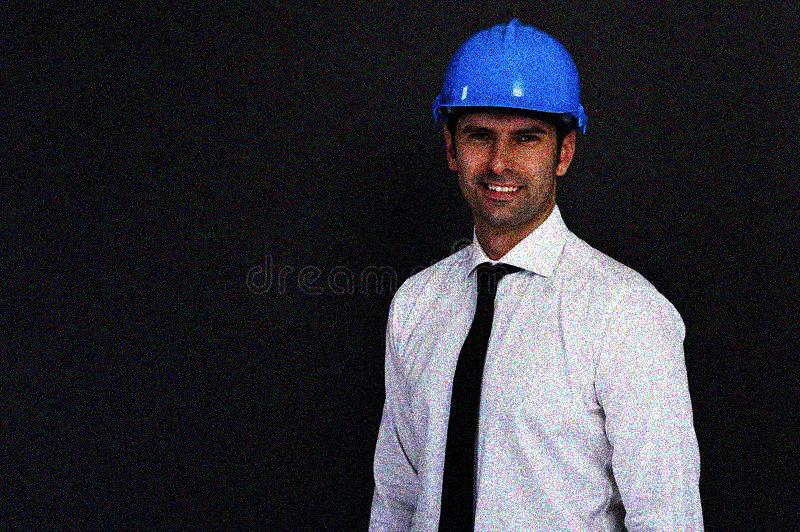helmet: (431, 17, 589, 223)
